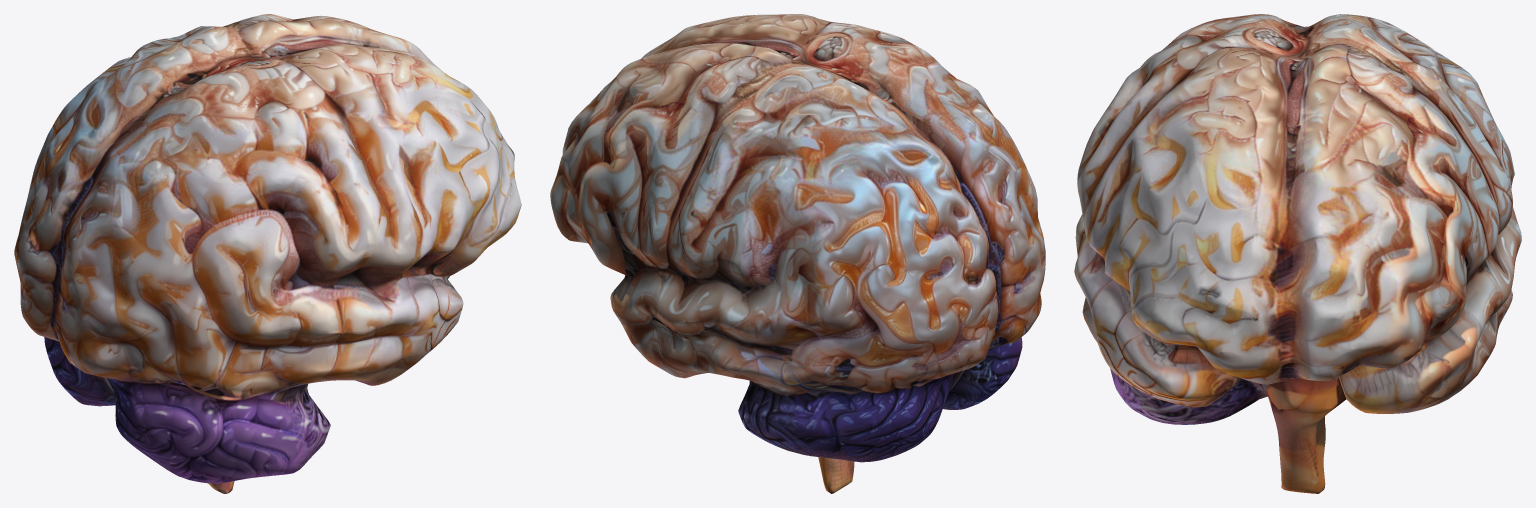
The model's file is brain3d.glb.
The picture shows the model from 3 angles, left to right: view 1: azimuth 30°, elevation 25°; view 2: azimuth 150°, elevation 25°; view 3: azimuth 270°, elevation 25°; orthographic projection. The views are drawn at different scales.
Bounding box in the file's own units: 1.2 × 1.16 × 0.9899.
1 material, 1 textured.
